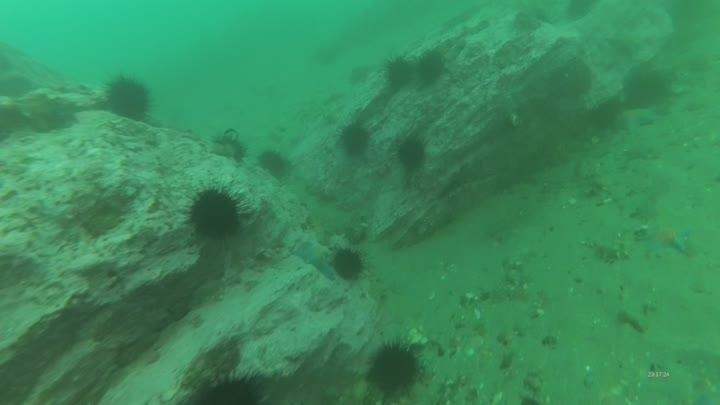echinus: (363, 337, 426, 400), (184, 184, 246, 244), (190, 369, 268, 405), (103, 73, 155, 123), (623, 65, 673, 109), (547, 58, 595, 102), (329, 246, 368, 283), (337, 120, 373, 159), (208, 132, 249, 165), (394, 134, 429, 172), (585, 98, 621, 134), (415, 48, 448, 86), (382, 54, 415, 91), (256, 147, 292, 180), (346, 63, 372, 87)
holothurian: (580, 237, 631, 265)
starfish: (639, 218, 694, 259), (290, 236, 339, 282), (614, 105, 658, 135)
